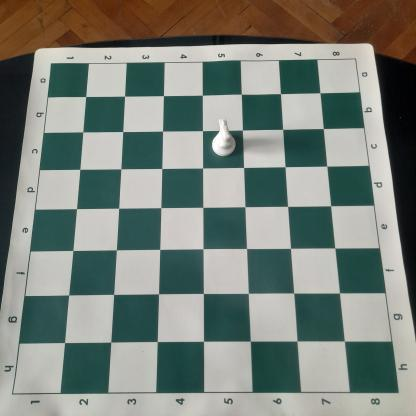white-knight: (210, 116, 236, 158)
